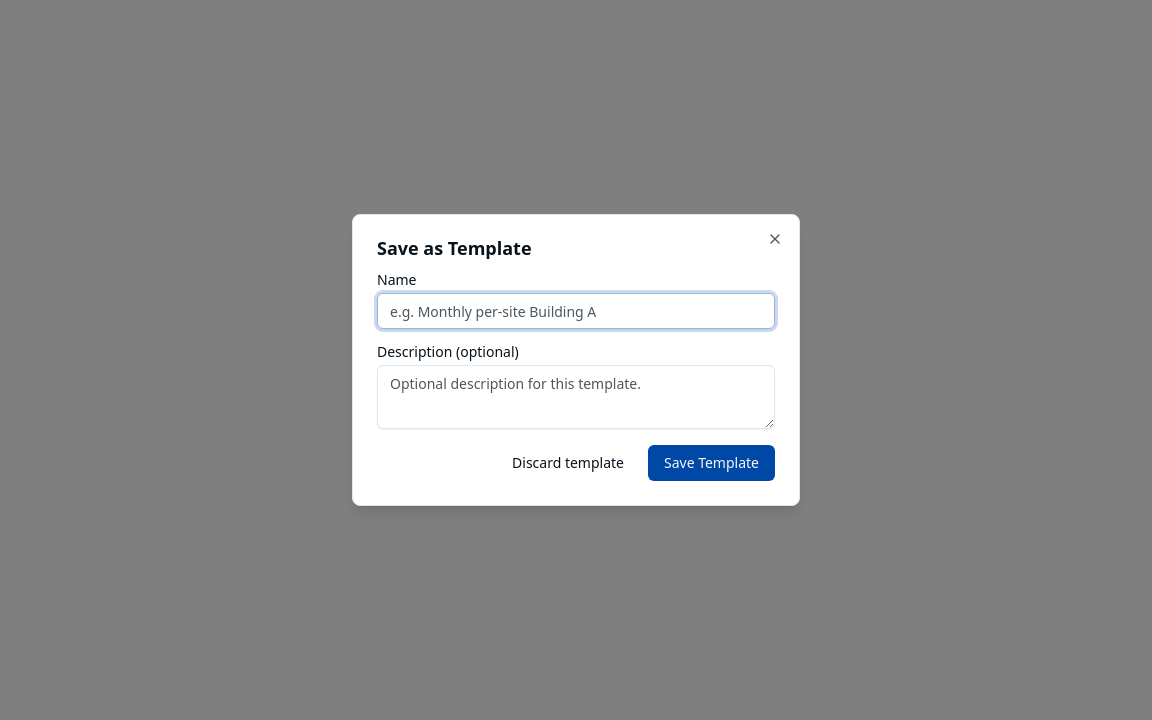
Test: SaveTemplateDialog › shows "Name is required." when name is empty on submit
Check: the heading "Save as Template" is shown, box [377, 236, 532, 260]
// Click Save Template without entering a name
Click the button "Save Template" at (712, 463), box [648, 445, 775, 481]
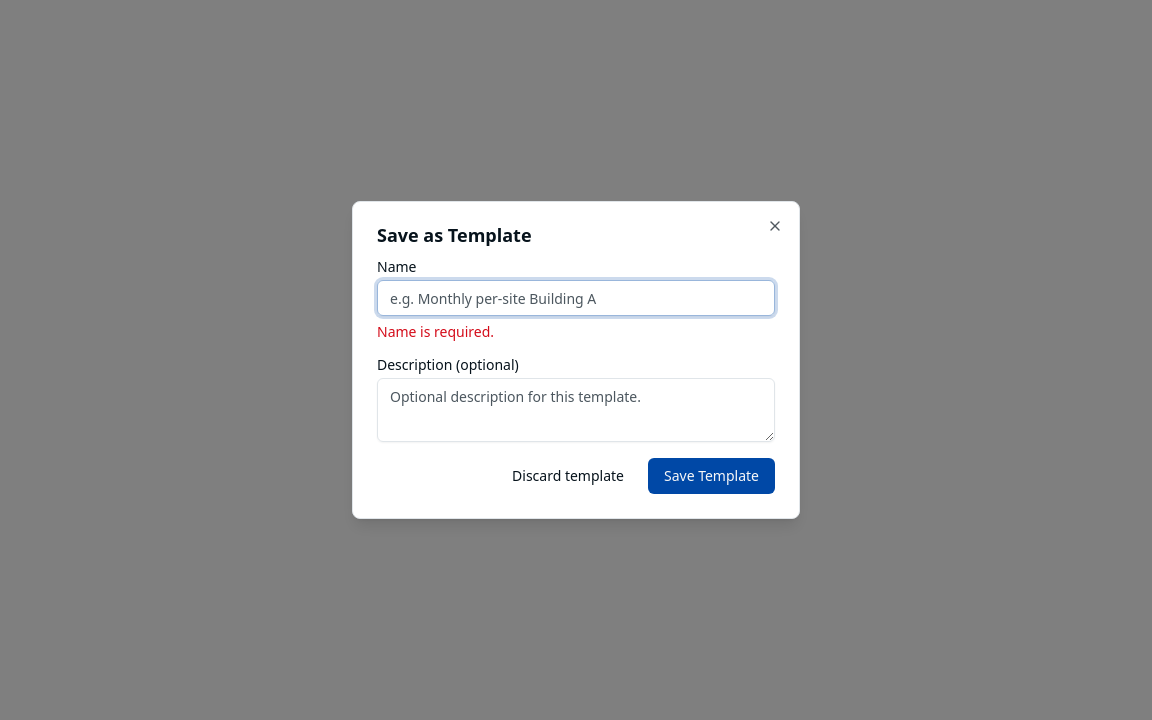
Check: the text "Name is required." is shown, box [377, 322, 494, 341]
